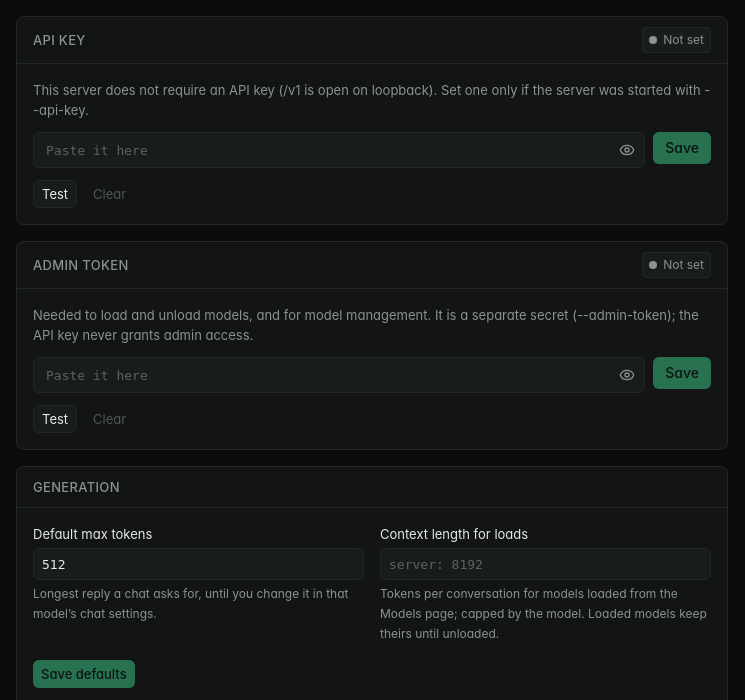
Test case: Settings: generation › refuses a default above the server cap, and an invalid context
The image size is (745, 700).
Replace the text in the field labelled "Default max tokens" with "4096" at (198, 564), box [33,548,364,580]
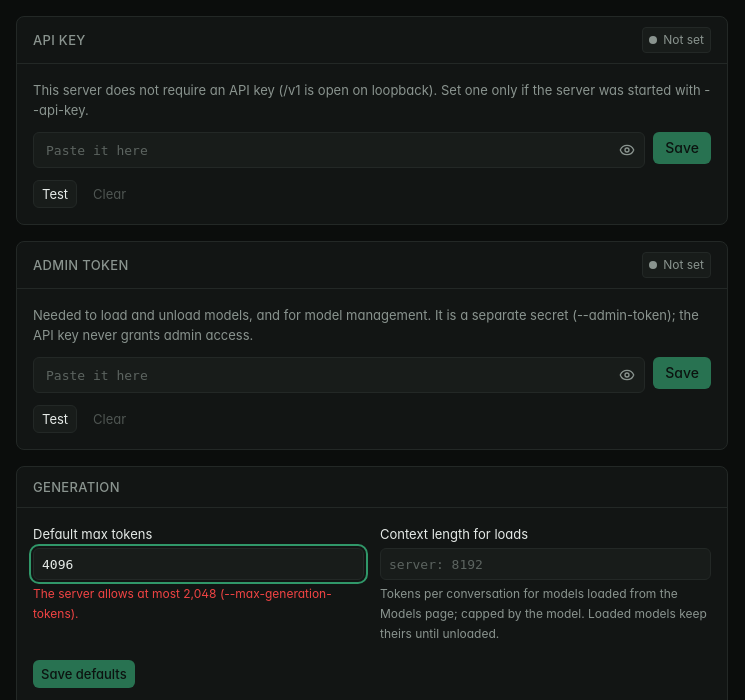
Expected: the button "Save defaults" is disabled, [33,660,135,688]
Expected: the text "The server allows at most 2,048 (--max-generation-tokens)." is shown, [33,584,364,624]
Replace the text in the field labelled "Default max tokens" with "600" at (198, 564), box [33,548,364,580]
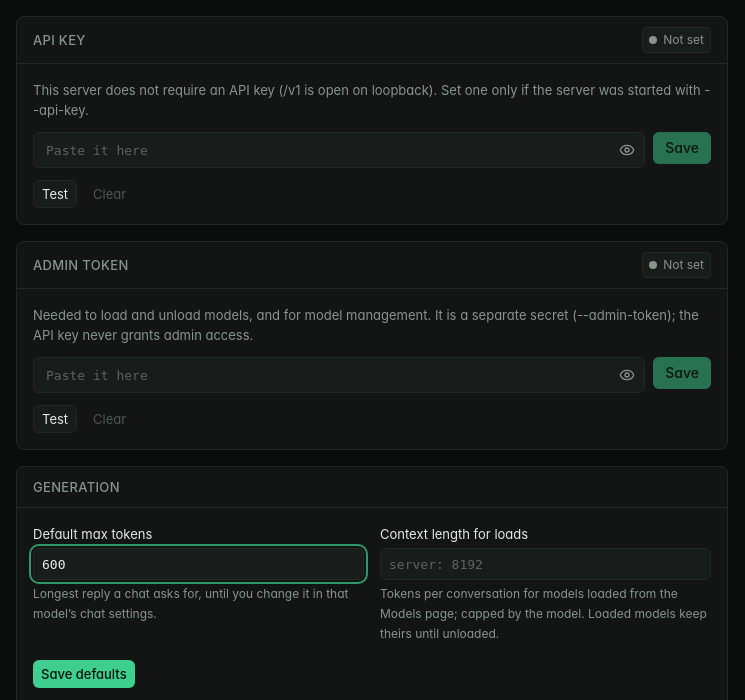
Type "0" into the field labelled "Context length for loads" at (546, 564), box [380,548,711,580]
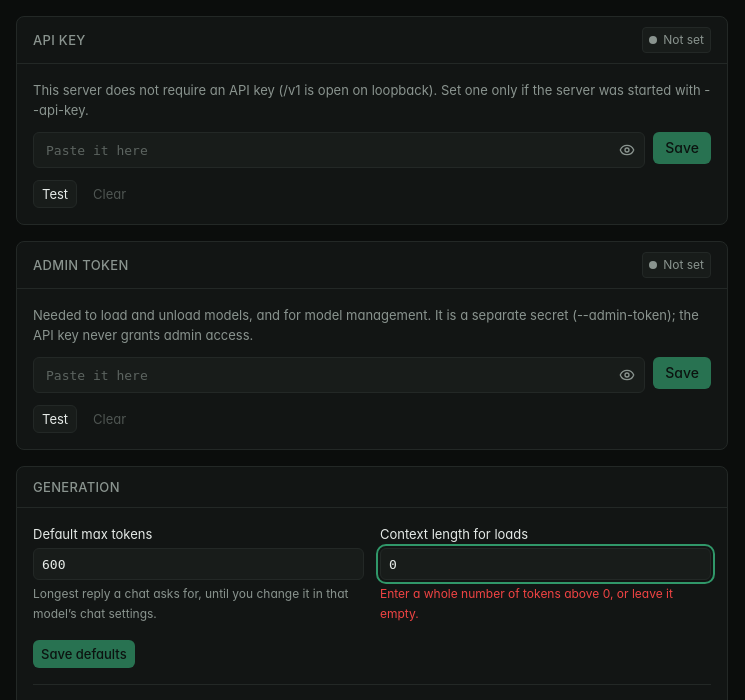
Expected: the text "Enter a whole number of tokens above 0, or leave it empty." is shown, [380,584,711,624]
Expected: the button "Save defaults" is disabled, [33,640,135,668]
